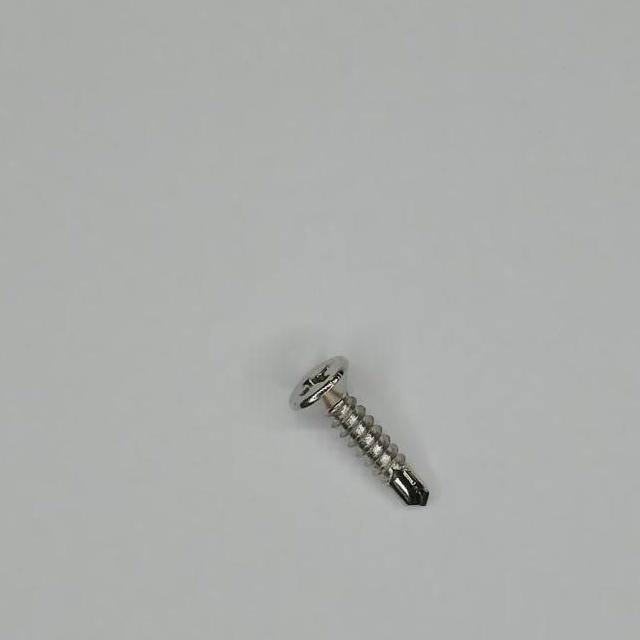Screw: (291, 357, 430, 506)
